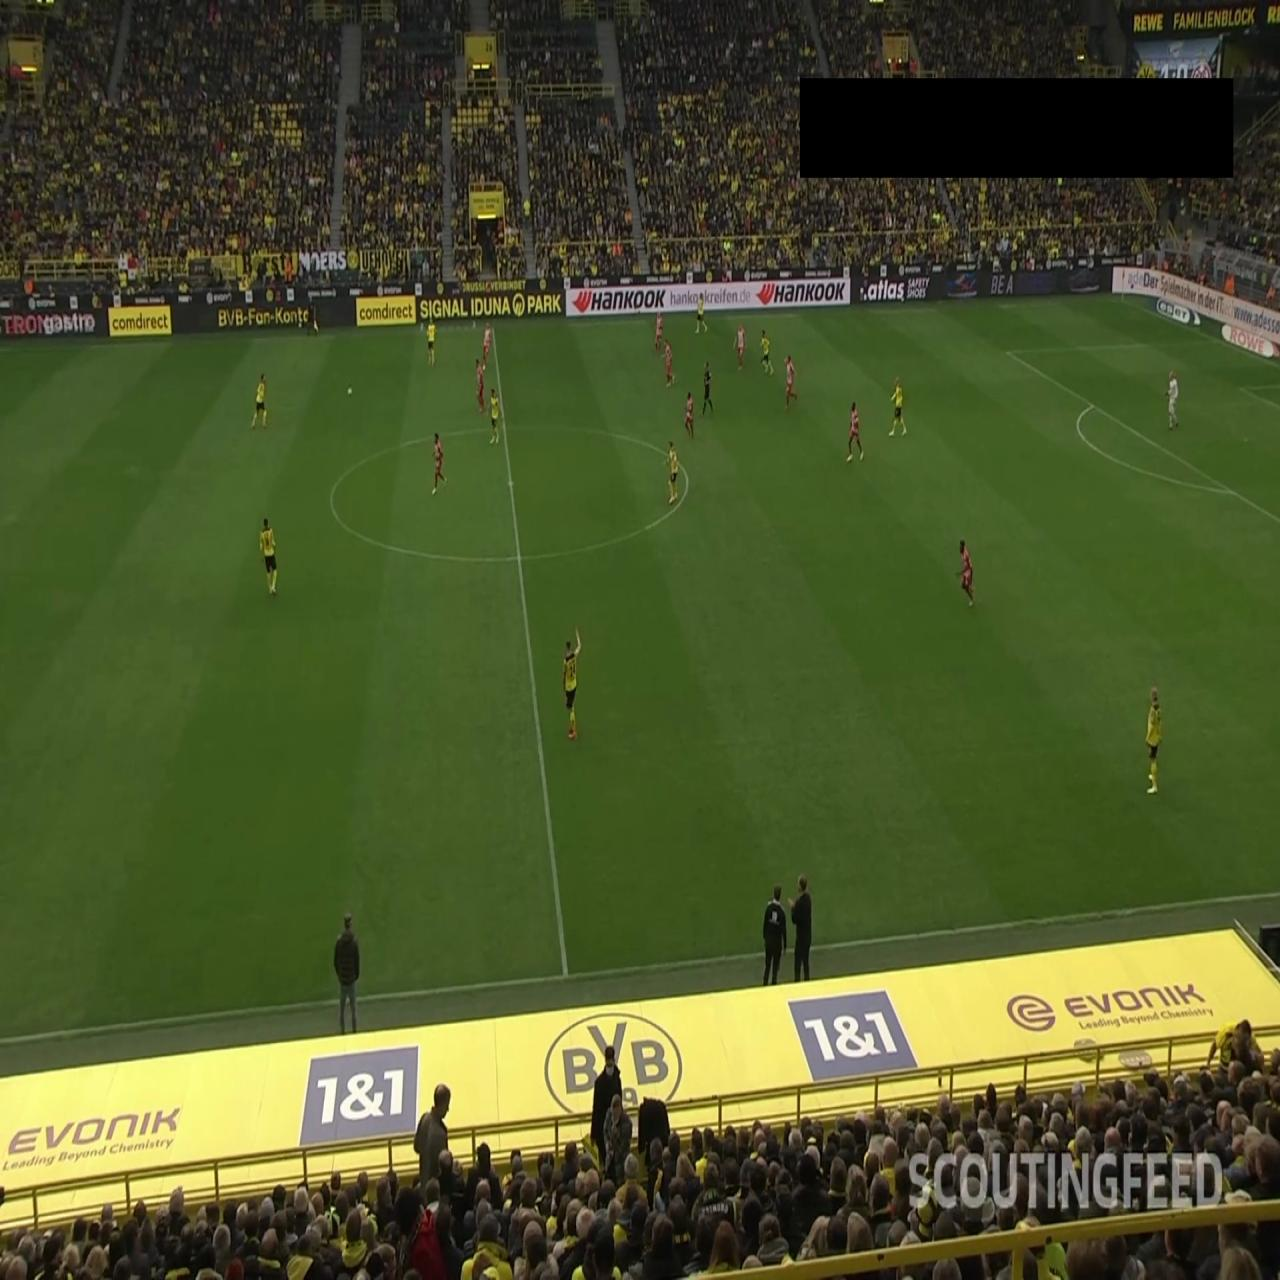ball: (347, 386, 352, 399)
goalkeeper: (1164, 369, 1178, 429)
player: (562, 623, 582, 741), (1145, 685, 1163, 795), (955, 541, 977, 611), (259, 517, 278, 595), (845, 401, 865, 464), (888, 376, 907, 436), (431, 432, 448, 496), (251, 372, 268, 429), (666, 439, 679, 504), (784, 353, 797, 411), (733, 322, 747, 372), (489, 388, 501, 446), (474, 358, 486, 414), (759, 328, 773, 374), (481, 321, 493, 372), (695, 292, 708, 336), (426, 318, 437, 368), (684, 390, 695, 438), (664, 339, 674, 388), (654, 308, 664, 354)
referee: (702, 360, 714, 417), (306, 294, 320, 338)
